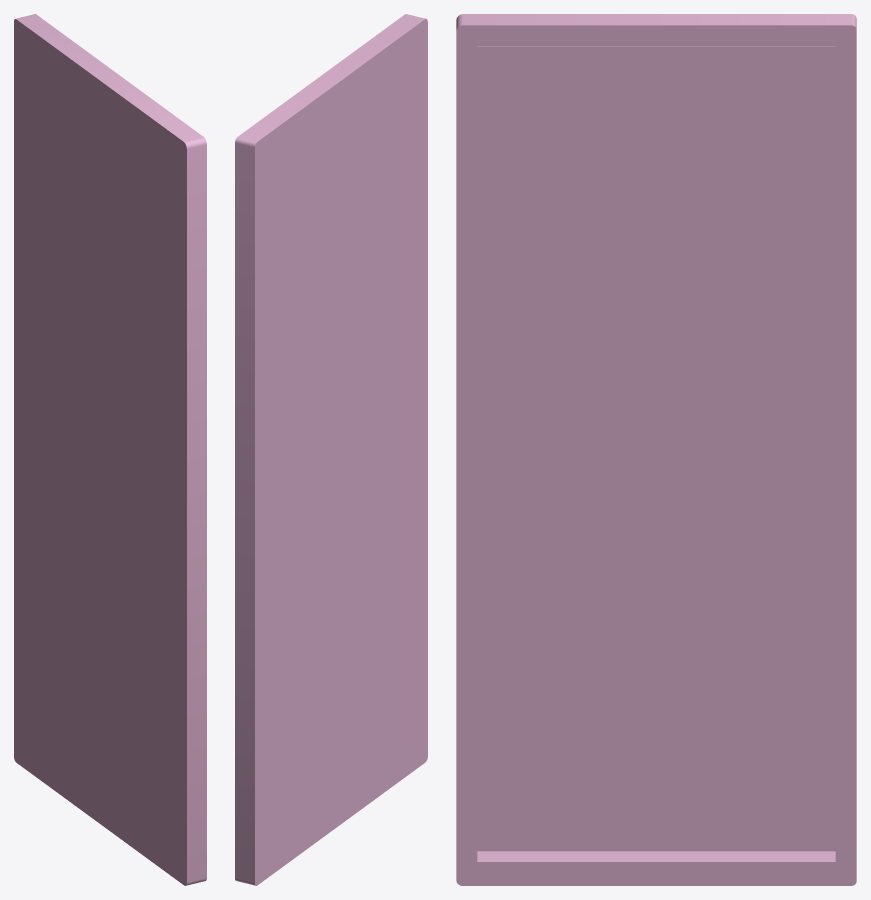
Rendered from Frame.fbx.
The picture shows the model from 3 angles, left to right: view 1: azimuth 30°, elevation 25°; view 2: azimuth 150°, elevation 25°; view 3: azimuth 270°, elevation 25°; orthographic projection. The views are drawn at different scales.
Parts seen in each view (by area): view 1: Cube; view 2: Cube; view 3: Cube.
Part boxes in pixels (left/top/right/bottom): Cube: left=14, top=14, right=206, bottom=885; Cube: left=235, top=14, right=427, bottom=885; Cube: left=456, top=14, right=856, bottom=885.
Size of the model in its own units: 0.2 by 7.09 by 2.99.
